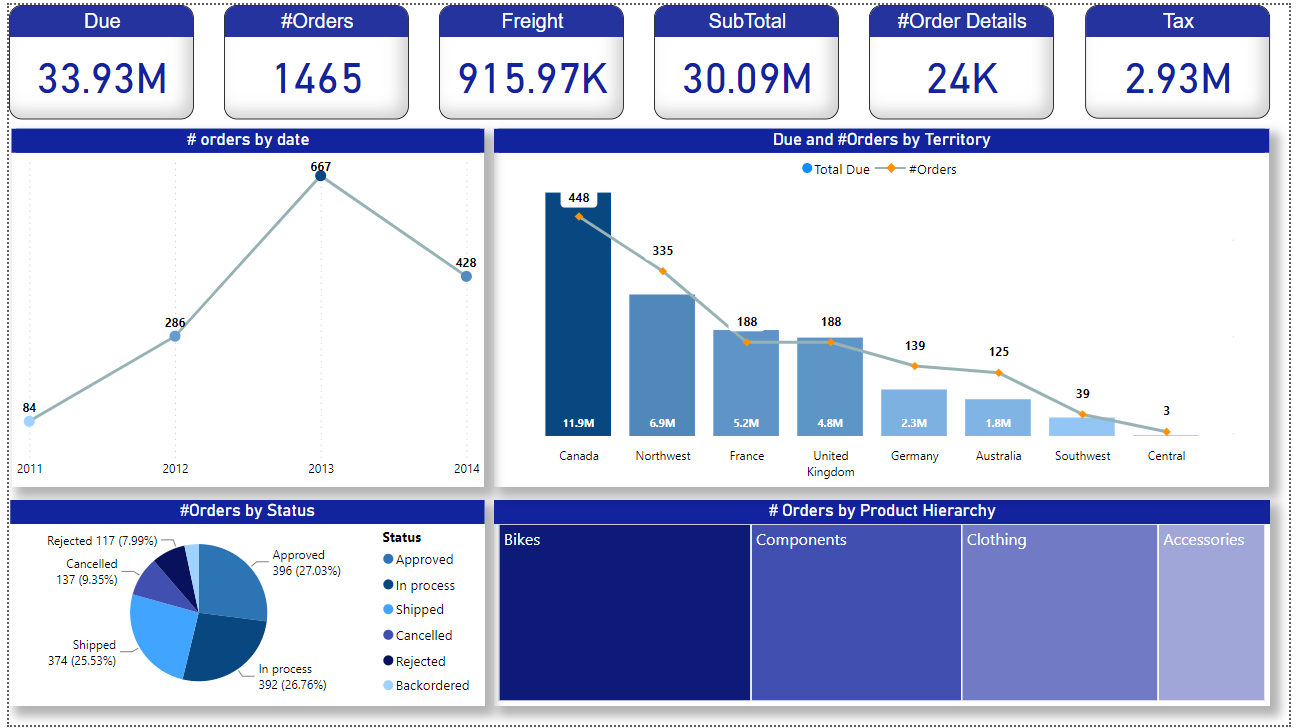

The dashboard page shown, as its layout file describes it:
{"tool":"powerbi","page":{"name":"1","canvas":[1280,720],"ordinal":0},"visuals":[{"type":"card","title":"Due","fields":{"Values":["mesurse.Total Due"]},"box":[0,0,185,114],"z":0,"group":"g1"},{"type":"lineChart","title":"# orders by date","fields":{"Category":["dim date.year Hierarchy.year"],"Y":["mesurse.#Orders"]},"box":[2.4,123.5,473.1,358.2],"z":0},{"type":"card","title":"Freight","fields":{"Values":["mesurse.Total Freight"]},"box":[430.3,0,185,114],"z":1000,"group":"g1"},{"type":"pieChart","fields":{"Category":["dim status.Status"],"Y":["mesurse.#Orders"]},"box":[1.2,495.1,474.3,206.6],"z":1000},{"type":"card","title":"#Order Details","fields":{"Values":["mesurse.# Order Details"]},"box":[860.6,0,185,114],"z":2000,"group":"g1"},{"type":"treemap","title":"# Orders by Product Hierarchy","fields":{"Group":["dim product.ProductCategory Hierarchy.ProductCategory","dim product.ProductCategory Hierarchy.Product","dim product.ProductCategory Hierarchy.ProductSubCategory"],"Values":["mesurse.#Orders"]},"box":[485,495,776.2,206.2],"z":2000},{"type":"card","title":"#Orders","fields":{"Values":["mesurse.#Orders"]},"box":[215.1,0,185,114],"z":3000,"group":"g1"},{"type":"lineStackedColumnComboChart","title":"Due and #Orders by Territory","fields":{"Y":["mesurse.Total Due"],"Y2":["mesurse.#Orders"],"Category":["dim territory.Territory"]},"box":[485.3,123.5,775,358.2],"z":3000},{"type":"group","id":"g1","title":"Group 1","box":[0,0,1260.3,114],"z":4000},{"type":"card","title":"Tax","fields":{"Values":["mesurse.Total Tax"]},"box":[1075.7,0,184.6,113.7],"z":4000,"group":"g1"},{"type":"card","title":"SubTotal","fields":{"Values":["mesurse.Total SubTotal"]},"box":[645.4,0,185,114],"z":5000,"group":"g1"}]}

Visuals, with their boxes in screenshot pixels (x1, y1, x2, y2), scaled from the page's 1280x720 canvas onto the 1300x728 screenshot:
"Due" card: <box>0,0,188,115</box>
"# orders by date" lineChart: <box>2,125,483,487</box>
"Freight" card: <box>437,0,625,115</box>
pieChart - dim status.Status x mesurse.#Orders: <box>1,501,483,709</box>
"#Order Details" card: <box>874,0,1062,115</box>
"# Orders by Product Hierarchy" treemap: <box>493,500,1281,709</box>
"#Orders" card: <box>218,0,406,115</box>
"Due and #Orders by Territory" lineStackedColumnComboChart: <box>493,125,1280,487</box>
"Group 1" group: <box>0,0,1280,115</box>
"Tax" card: <box>1093,0,1280,115</box>
"SubTotal" card: <box>655,0,843,115</box>
